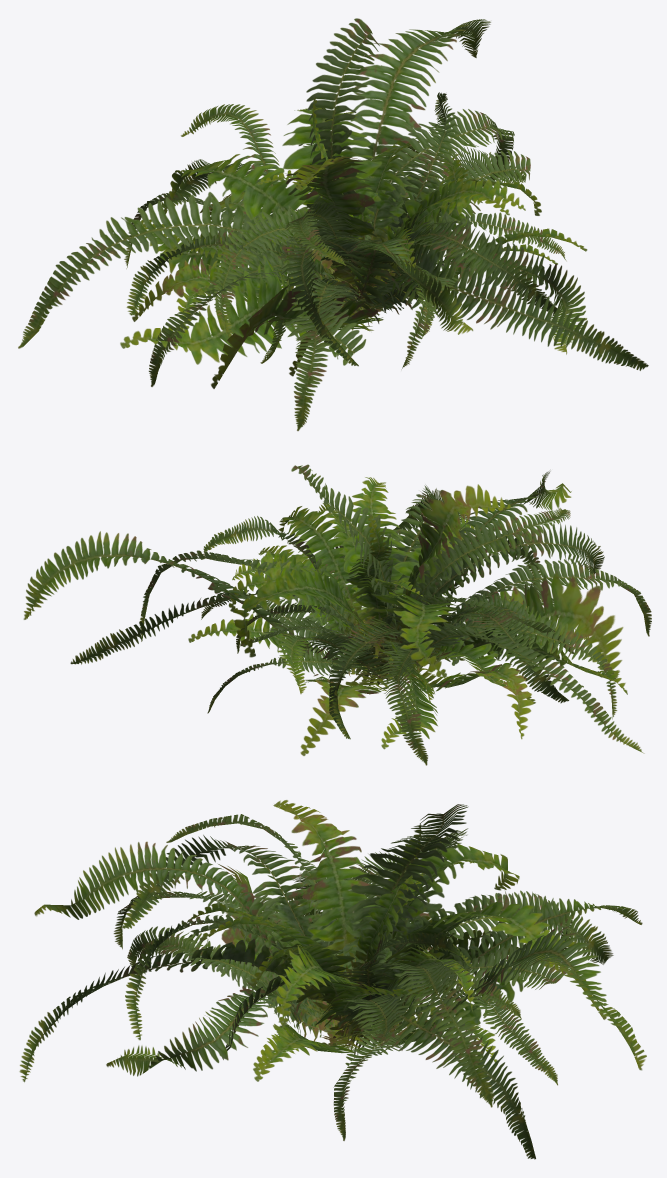
The model's file is fern.glb.
3 renders of one model, top to bottom at view 1: azimuth 30°, elevation 25°; view 2: azimuth 150°, elevation 25°; view 3: azimuth 270°, elevation 25°, orthographic. The views are drawn at different scales.
Parts seen in each view (by area): view 1: fern_02_b, fern_02_c, fern_02_a, fern_02_d; view 2: fern_02_b, fern_02_c, fern_02_d, fern_02_a; view 3: fern_02_b, fern_02_c, fern_02_a, fern_02_d.
Part boxes in pixels (x1,y1,x2,y2): fern_02_b: (18,18,648,430); fern_02_c: (120,96,586,376); fern_02_a: (176,92,544,337); fern_02_d: (141,142,557,363); fern_02_b: (23,464,651,755); fern_02_c: (70,485,627,765); fern_02_d: (232,516,589,749); fern_02_a: (203,516,535,712); fern_02_b: (19,800,646,1140); fern_02_c: (106,814,642,1159); fern_02_a: (139,873,566,1085); fern_02_d: (187,867,593,1071).
Bounding box in the file's own units: 0.9897 × 0.4277 × 0.8937.
1 material, 1 textured.
